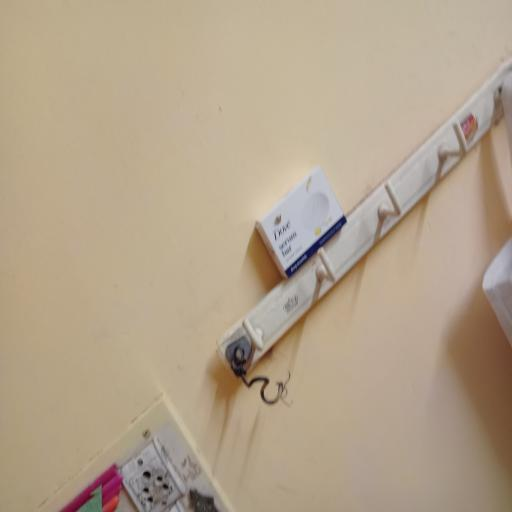Dove`1: (243, 164, 364, 283)
